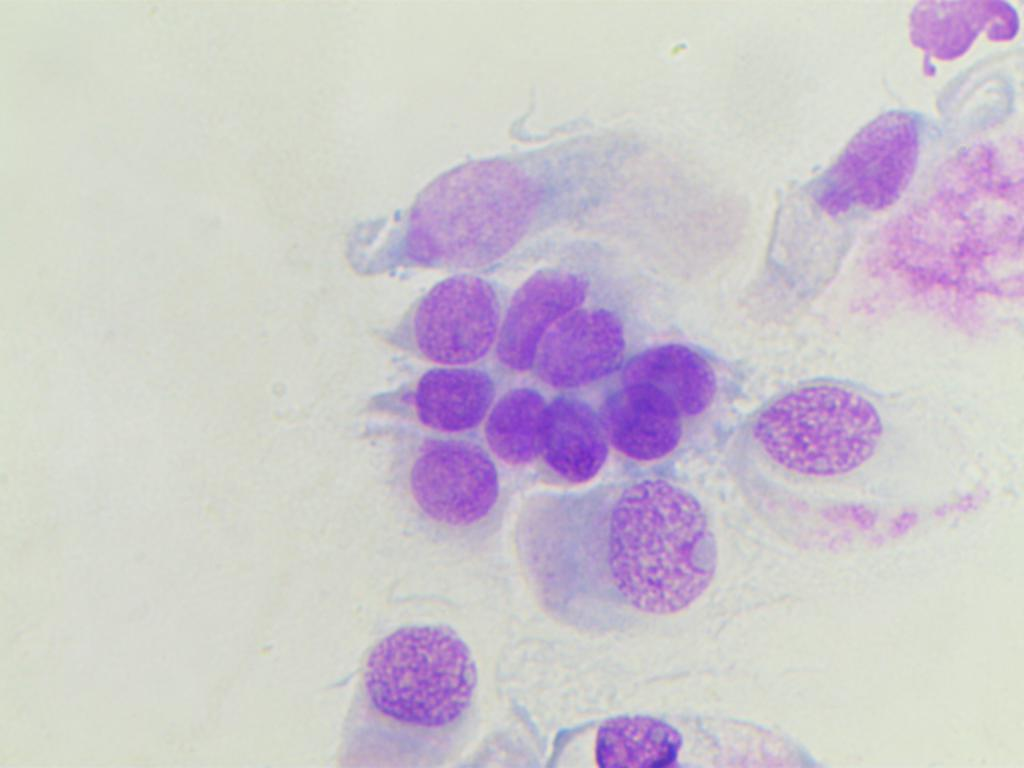artifact: (880, 129, 1022, 322), (887, 0, 1024, 86)
epithelial: (515, 479, 721, 620), (741, 380, 913, 490), (361, 616, 479, 761), (524, 292, 678, 387), (355, 266, 503, 361), (347, 351, 495, 446), (344, 441, 492, 536), (494, 247, 597, 370), (613, 341, 727, 416), (484, 390, 554, 466)
goblet_cell: (376, 132, 670, 278), (748, 107, 925, 318), (588, 704, 820, 768)
